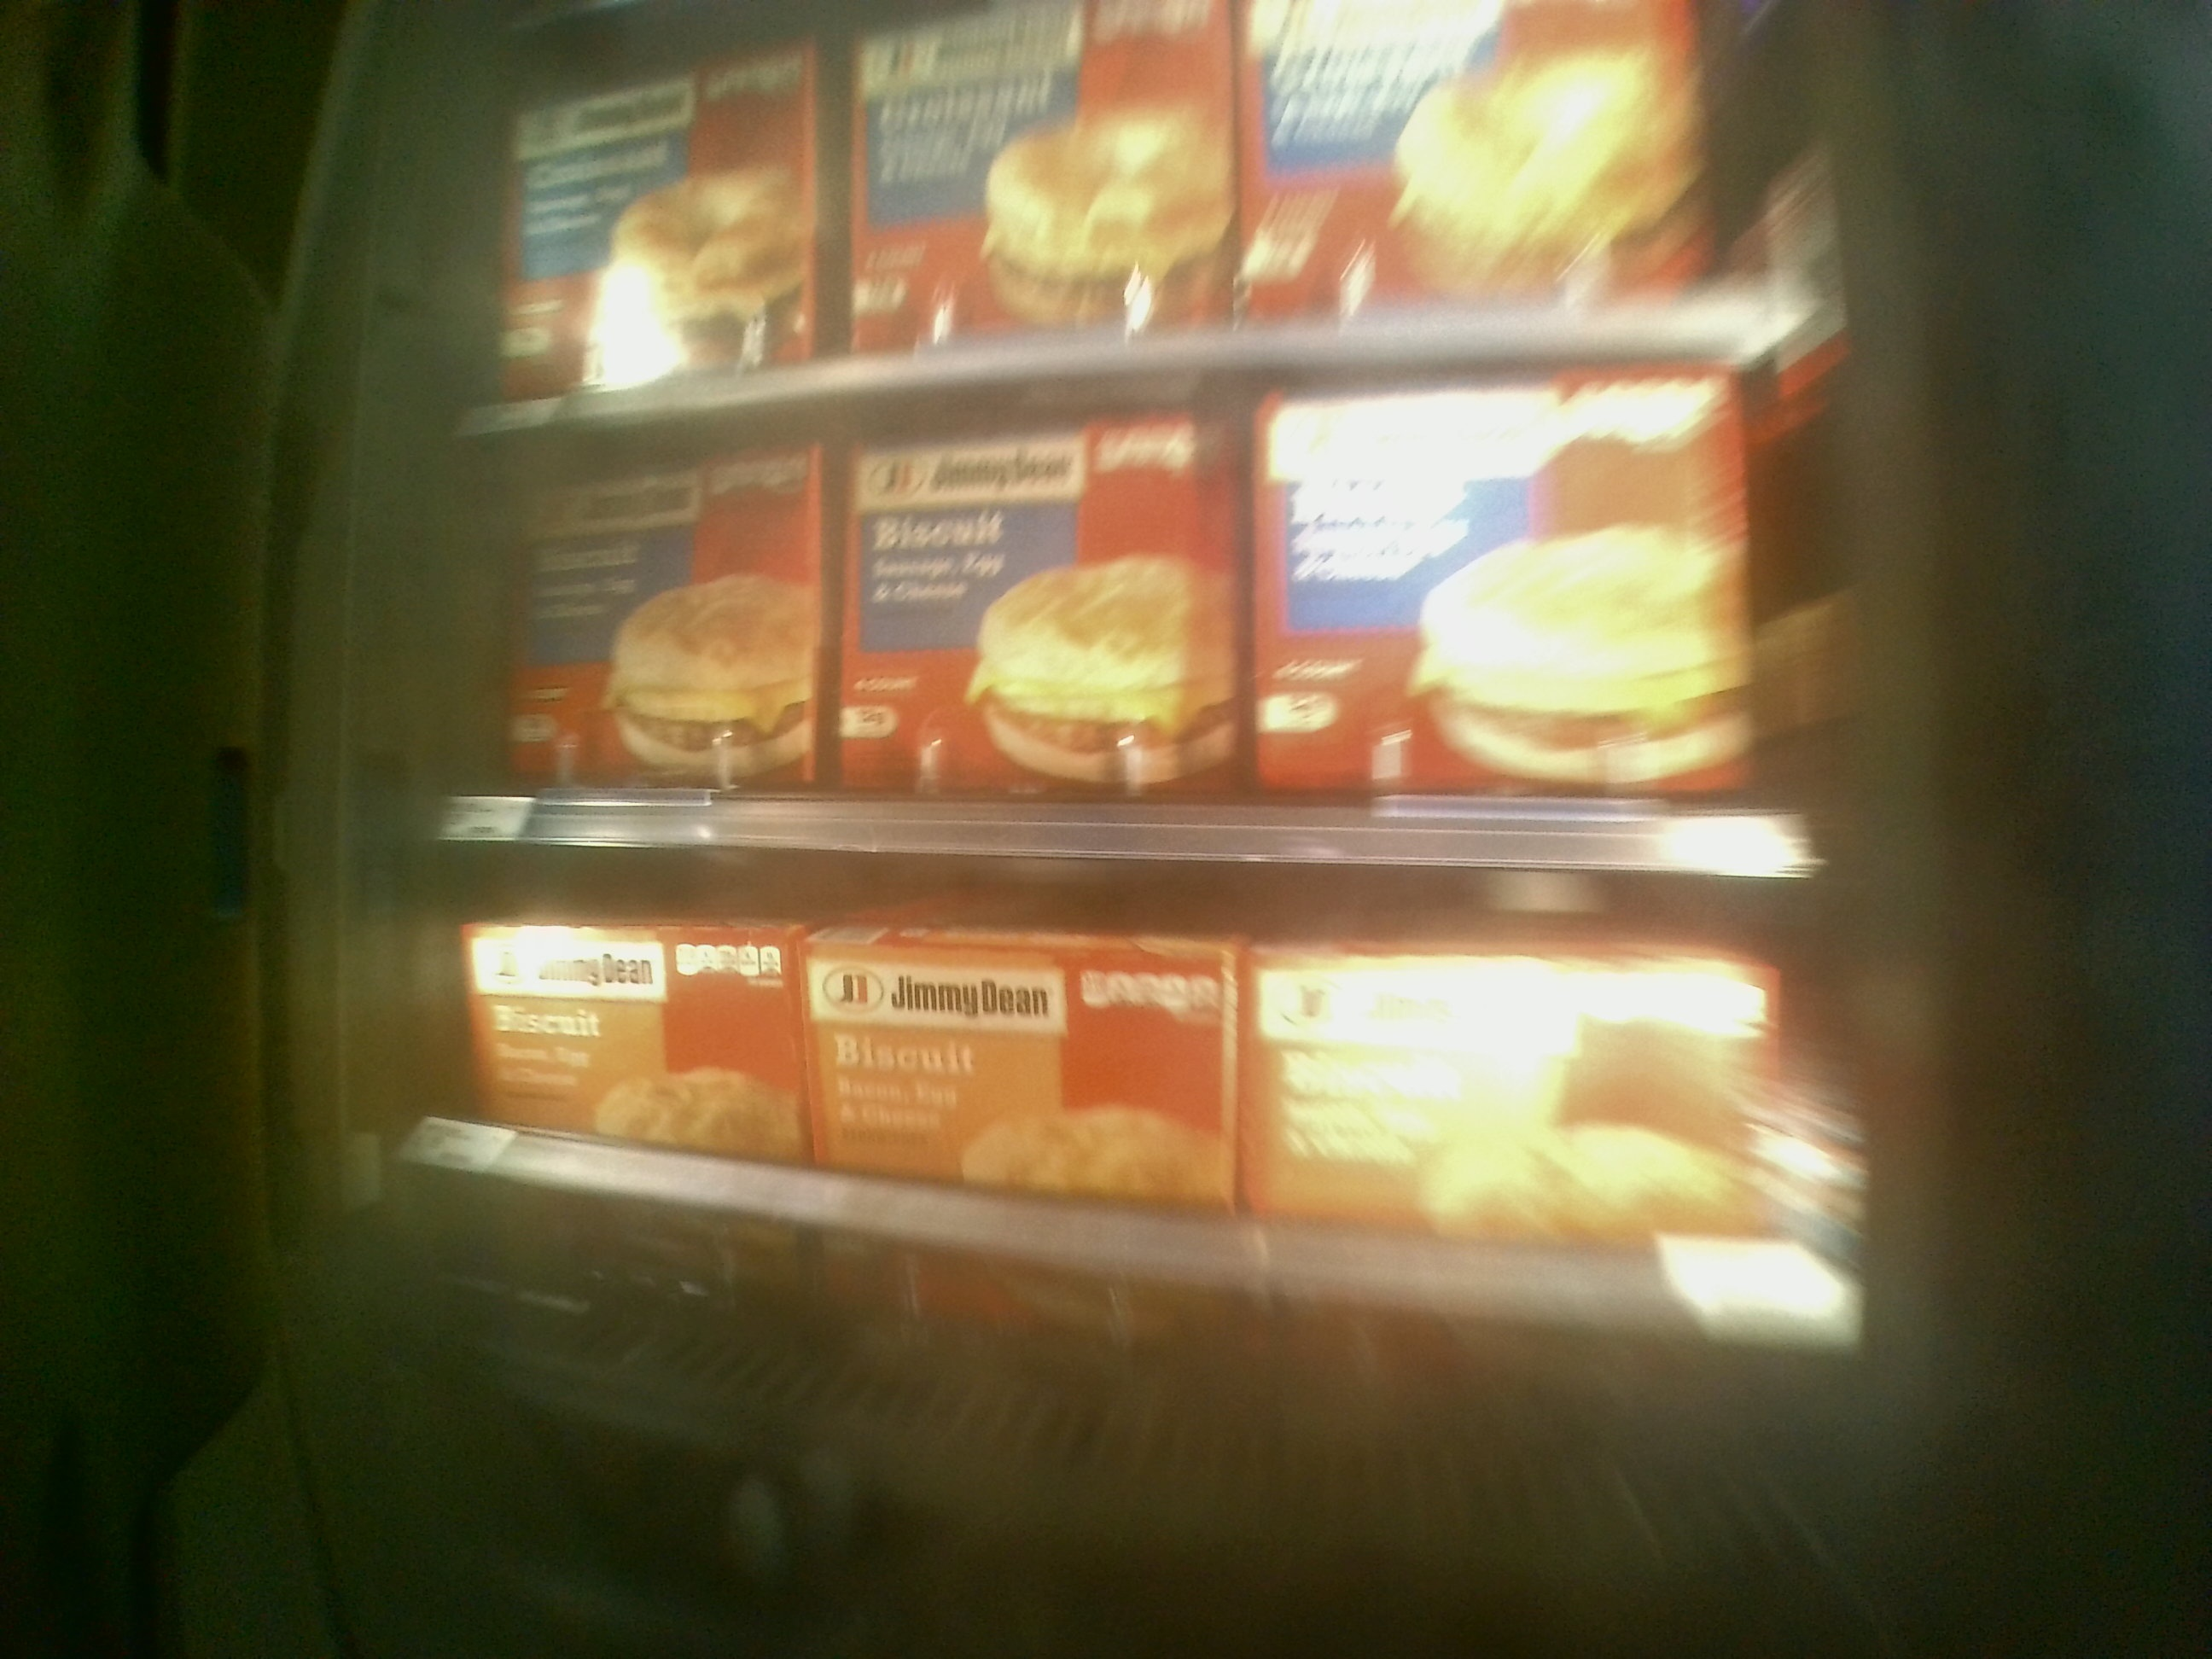shelf: (406, 838, 1865, 1422), (425, 345, 1815, 877)
